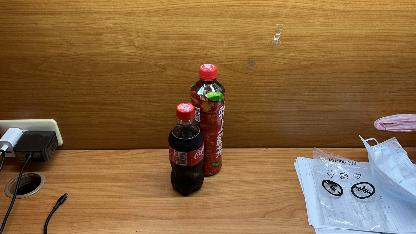Plastic Bottle: (190, 62, 226, 178), (168, 103, 206, 198)
